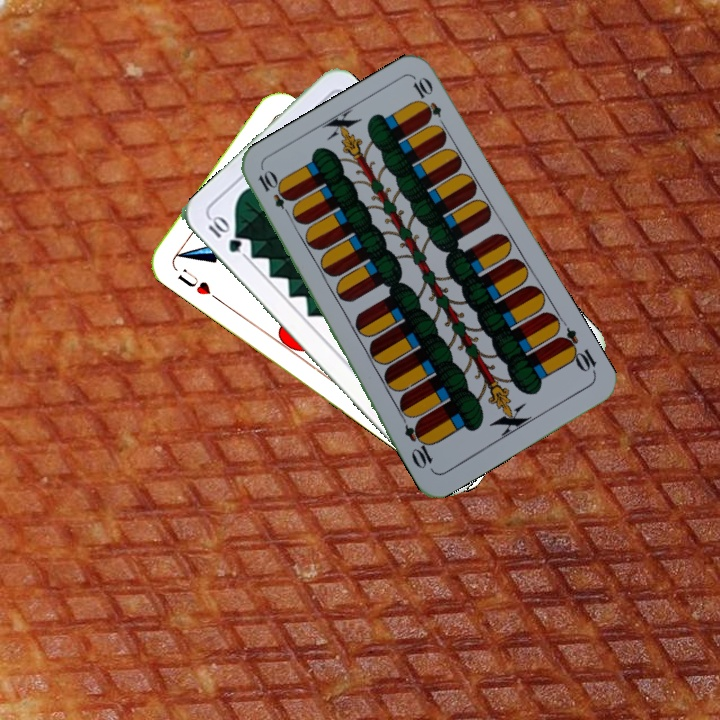E10: (554, 324, 599, 378), (254, 167, 296, 221)
G10: (204, 212, 245, 256)
HU: (173, 264, 222, 304)
